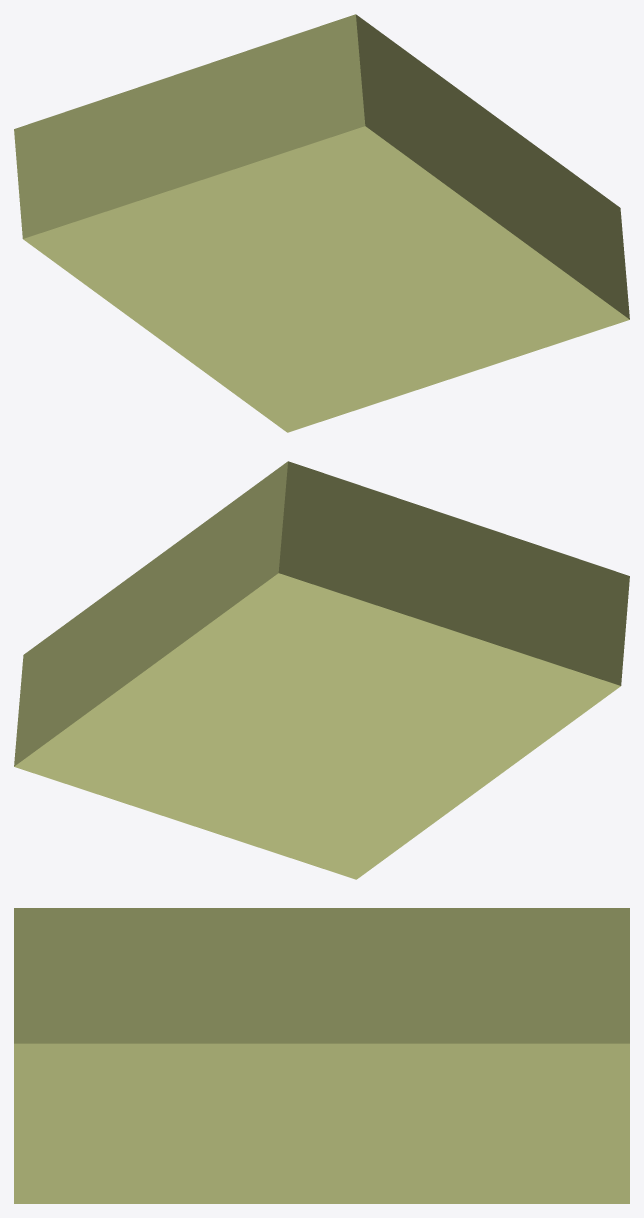
The picture shows the model from 3 angles, top to bottom: view 1: azimuth 30°, elevation 25°; view 2: azimuth 150°, elevation 25°; view 3: azimuth 270°, elevation 25°; orthographic projection. The views are drawn at different scales.
Parts seen in each view (by area): view 1: 0_2_3_3_3_1_0_2_3_0_0_2; view 2: 0_2_3_3_3_1_0_2_3_0_0_2; view 3: 0_2_3_3_3_1_0_2_3_0_0_2.
Boxes of the visible parts, x1=… form: 0_2_3_3_3_1_0_2_3_0_0_2: x1=14, y1=14, x2=629, y2=432; 0_2_3_3_3_1_0_2_3_0_0_2: x1=14, y1=461, x2=629, y2=879; 0_2_3_3_3_1_0_2_3_0_0_2: x1=14, y1=908, x2=629, y2=1203.
Size of the model in its own units: 4.6 by 1.8 by 6.
